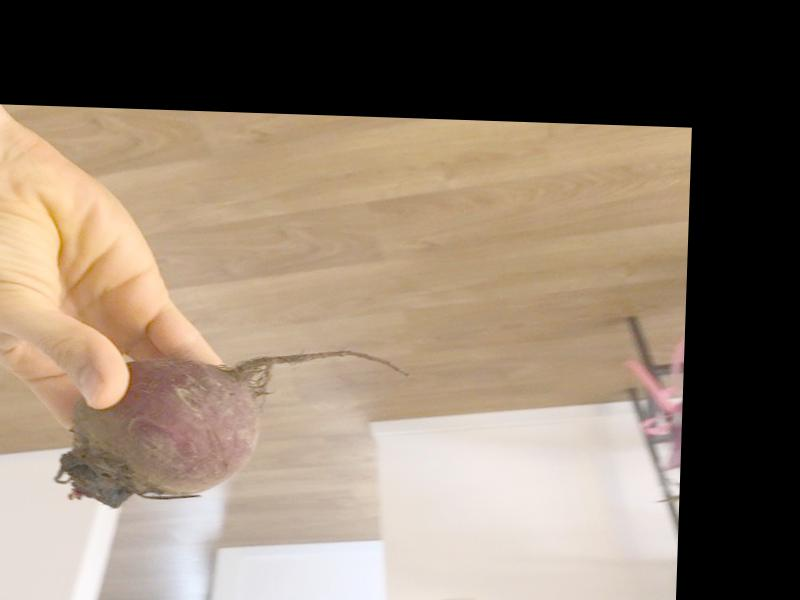Beet: (58, 342, 412, 516)
